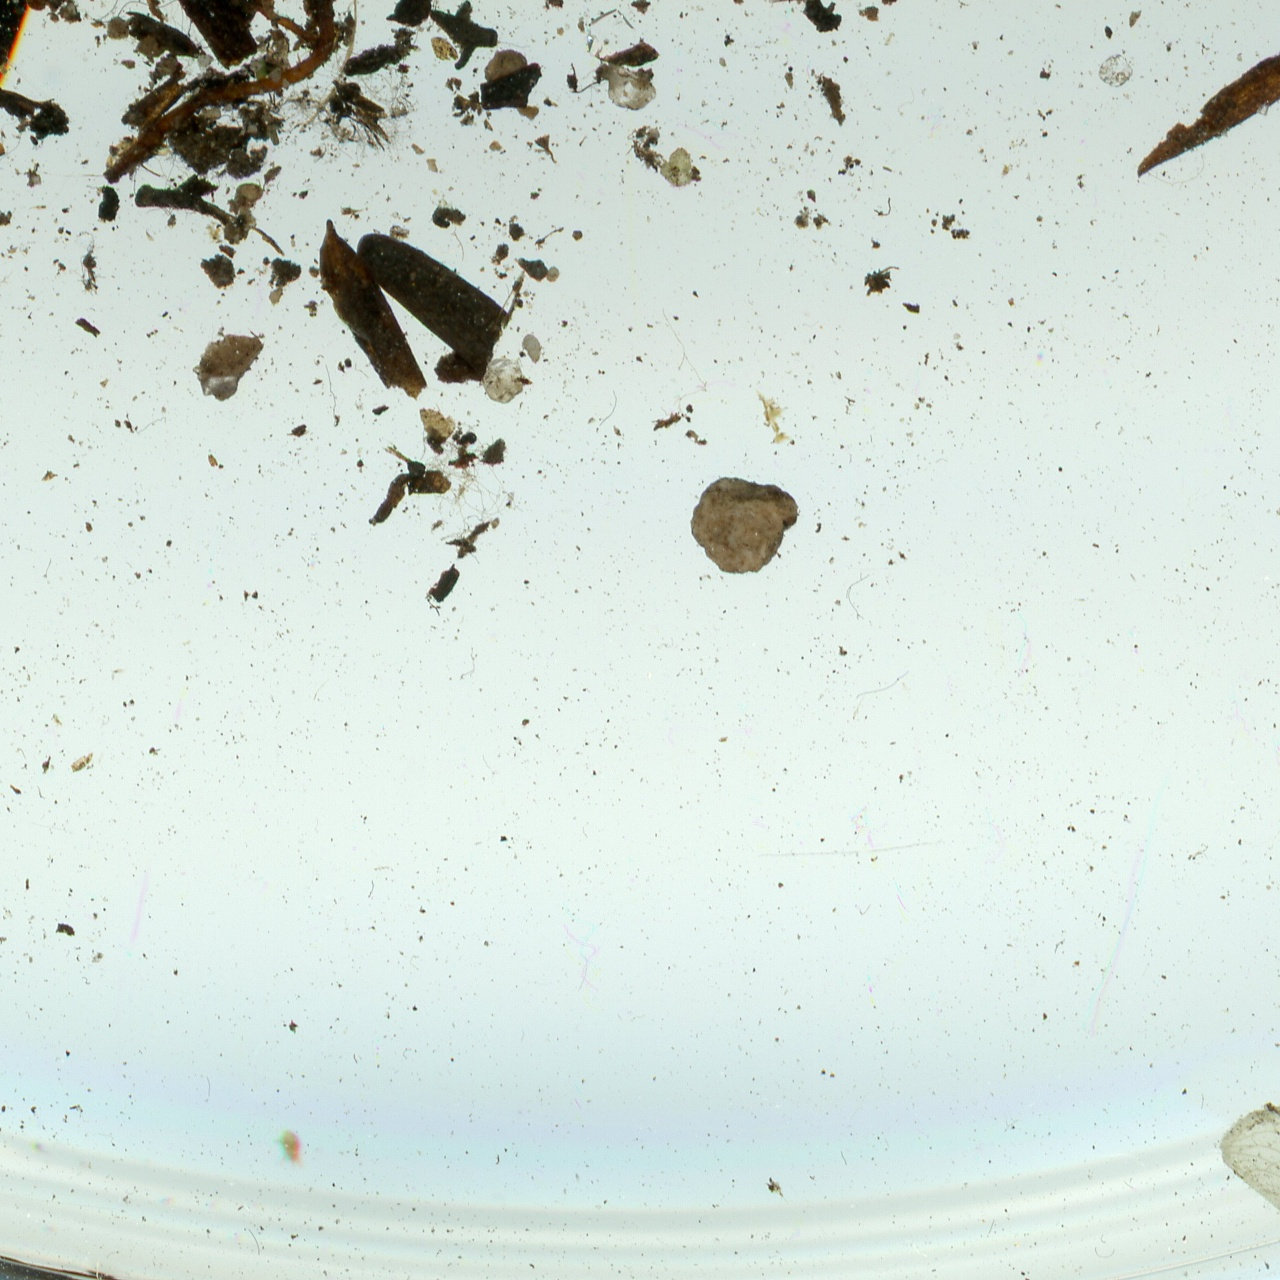arthropod: (273, 1128, 307, 1171)
